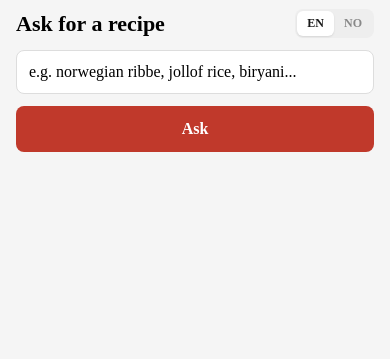
AskScreen › submits the typed question and displays the answer
Type "norwegian ribbe" into the field with test id "ask-input".
click(195, 72); type("norwegian ribbe")  # box [16,50,374,94]
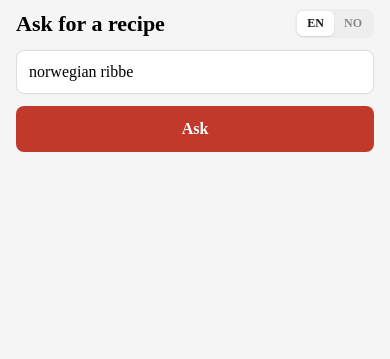
Click the element with test id "ask-submit".
click(195, 129)  # box [16,106,374,152]
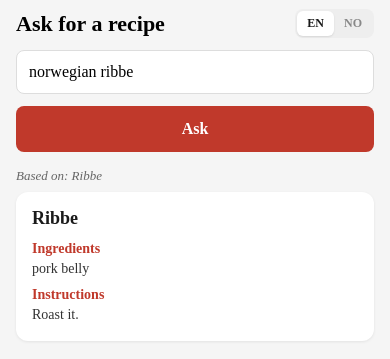
Now the text "Ribbe" is shown, box [32,208,78,228]
Now the text "Based on: Ribbe" is shown, box [16,168,102,183]
